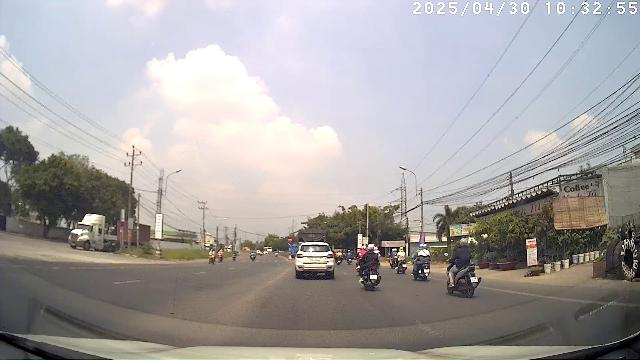102-cam-di-nguoc-chieu: (287, 237, 293, 243)
302a-huong-phai-di-vong-chuong-ngai-vat-1: (287, 243, 293, 247)
